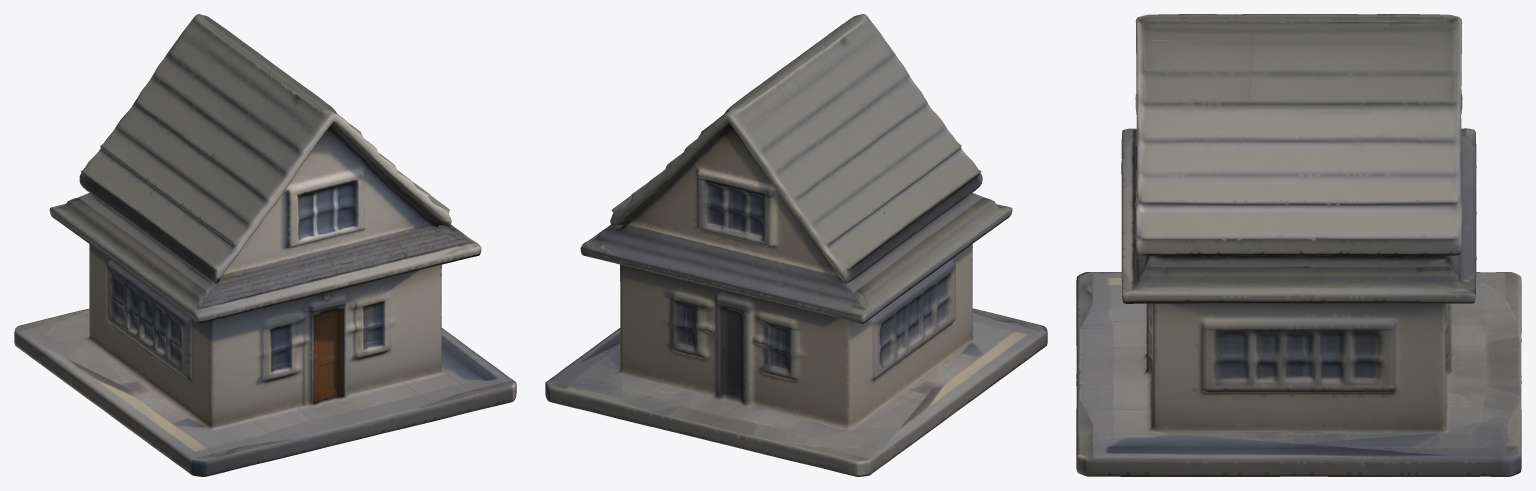
File: a_low_poly_3D_model_o_0928225801_refine.fbx
3 renders of one model, left to right at view 1: azimuth 30°, elevation 25°; view 2: azimuth 150°, elevation 25°; view 3: azimuth 270°, elevation 25°, orthographic. The views are drawn at different scales.
Parts seen in each view (by area): view 1: Mesh_0; view 2: Mesh_0; view 3: Mesh_0.
Boxes of the visible parts, box(x1,y1,x2,y2) form: Mesh_0: box(14, 14, 516, 476); Mesh_0: box(545, 14, 1047, 476); Mesh_0: box(1076, 14, 1521, 476).
Size of the model in its own units: 200 by 182 by 200.
1 material, 1 textured.
